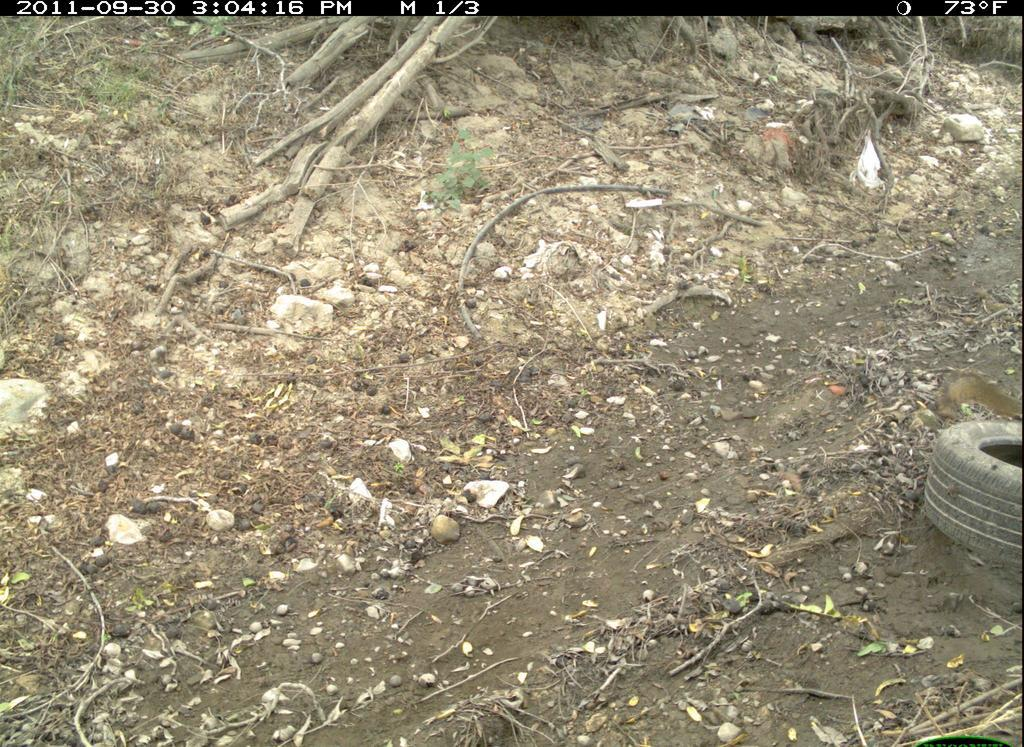squirrel: (932, 363, 1023, 442)
